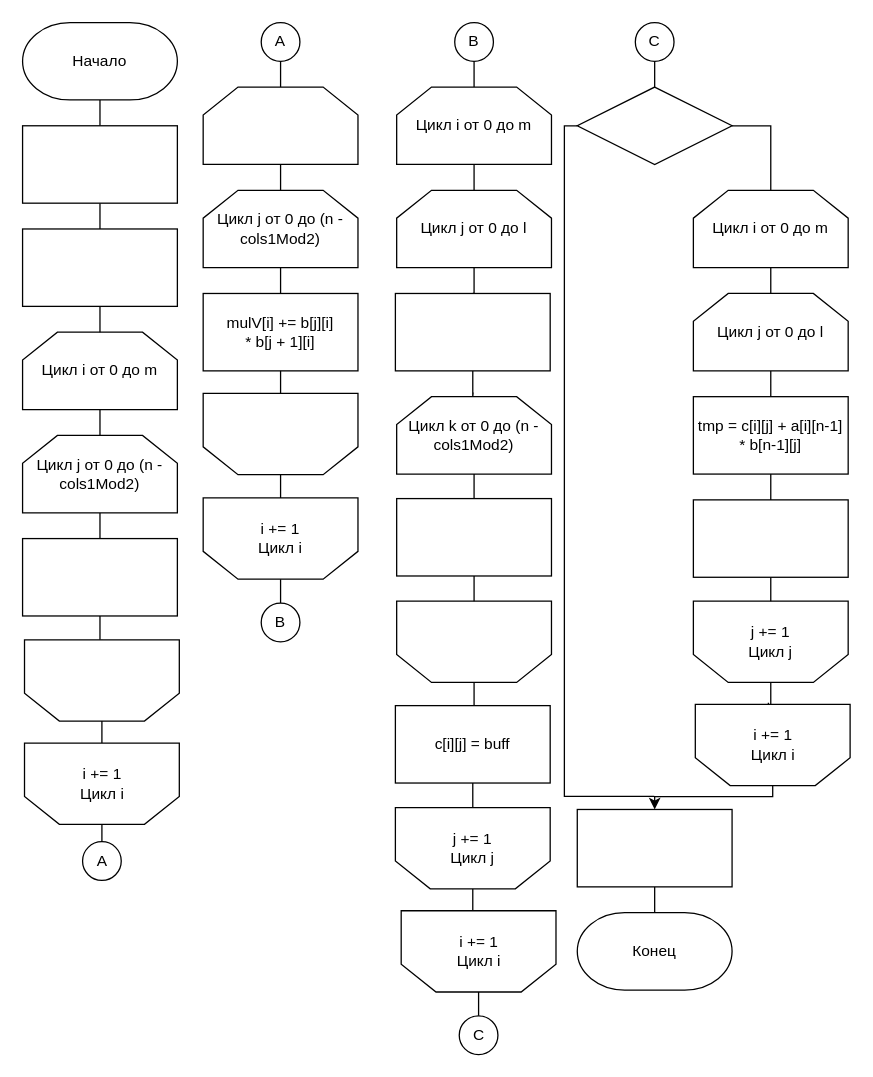
The diagram is 873 pixels wide and 1077 high, and some of its shapes have lost their labels. The shapes that lost their labels are listed below. From the top down, each one's centre as x and y in pixels, then its label:
At [280,125]: "Цикл i от 0 до l".
At [654,125]: "cols1Mod2 == 1".
At [99,163]: "mulH, mulV - массивы нулей длины m и l соотв.".
At [99,267]: "cols1Mod2 = n % 2".
At [472,331]: "buff = - ( mulH[i] + mulV[j])".
At [280,433]: "j += 2 Цикл j".
At [473,536]: "buff+=(a[i][k+1]+ b[k][j])*(a[i][k]+ b[k+1][j])".
At [770,538]: "c[i][j] = tmp".
At [99,576]: "mulH[i] += a[i][j] * a[i][j + 1]".
At [473,641]: "k += 2 Цикл k".
At [101,680]: "j += 2 Цикл i".
At [654,847]: "результат = c".
